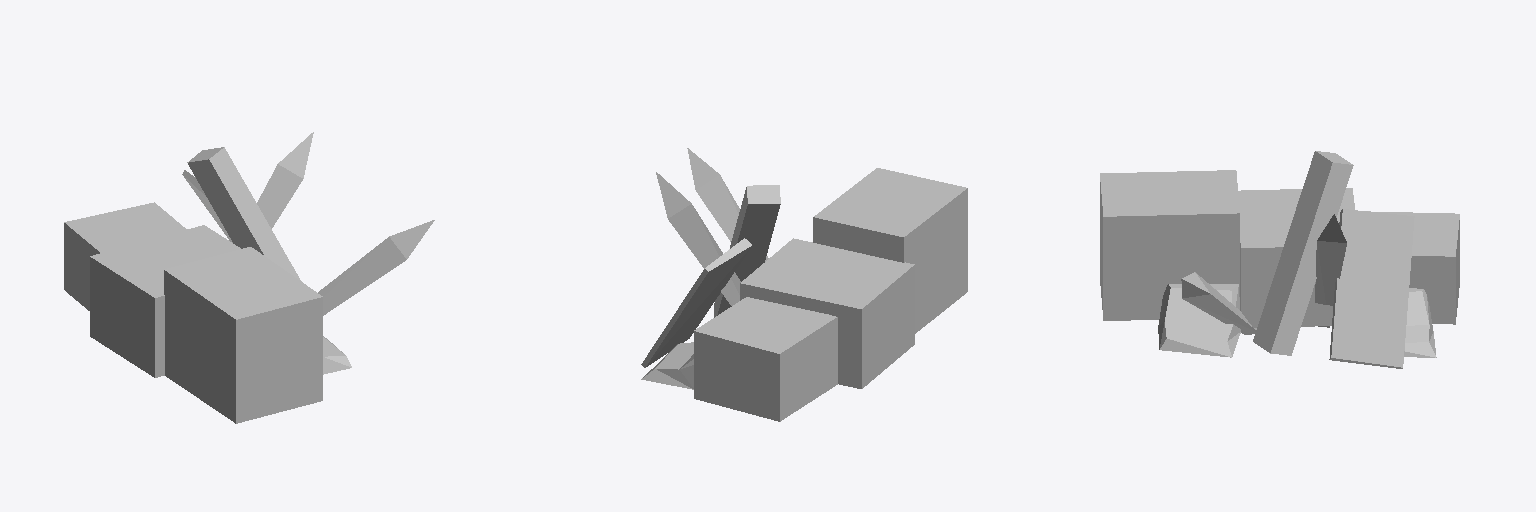
The model's file is barricade2.obj.
3 views of the same model, side by side, from view 1: azimuth 30°, elevation 25°; view 2: azimuth 150°, elevation 25°; view 3: azimuth 270°, elevation 25° (orthographic).
Visible parts, largest first — view 1: Barricade2(m0); view 2: Barricade2(m0); view 3: Barricade2(m0).
Part boxes in pixels (x1,y1,x2,y2): Barricade2(m0): (64,132,434,423); Barricade2(m0): (641,148,967,421); Barricade2(m0): (1100,151,1459,368).
Bounding box in the file's own units: 5.25 × 3.51 × 6.3.